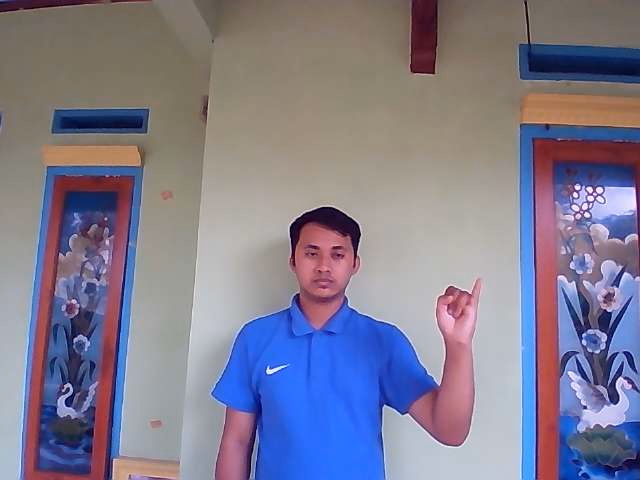I: (436, 275, 483, 341)
